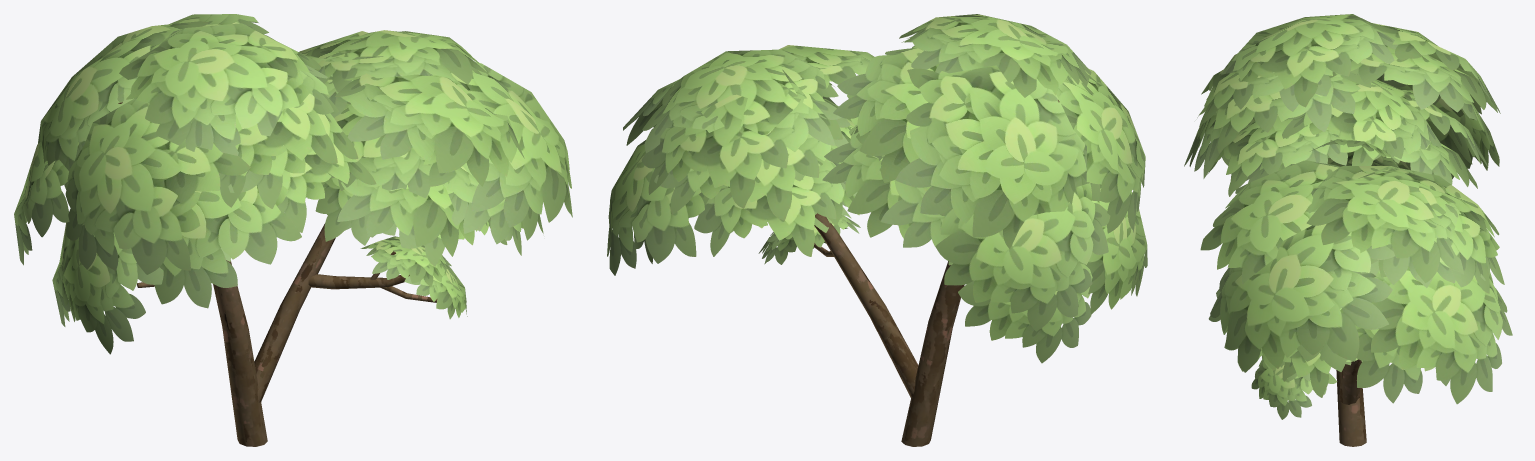
Rendered from tree_8.glb.
3 views of the same model, side by side, from view 1: azimuth 30°, elevation 25°; view 2: azimuth 150°, elevation 25°; view 3: azimuth 270°, elevation 25° (orthographic). The views are drawn at different scales.
Visible parts, largest first — view 1: Tree_8; view 2: Tree_8; view 3: Tree_8.
Part boxes in pixels (box(x1,y1,x2,y2)): Tree_8: box(14, 14, 572, 446); Tree_8: box(607, 14, 1147, 446); Tree_8: box(1184, 14, 1512, 446).
Size of the model in its own units: 6.94 by 5.52 by 4.39.
Materials: 2 (2 with a texture image).
